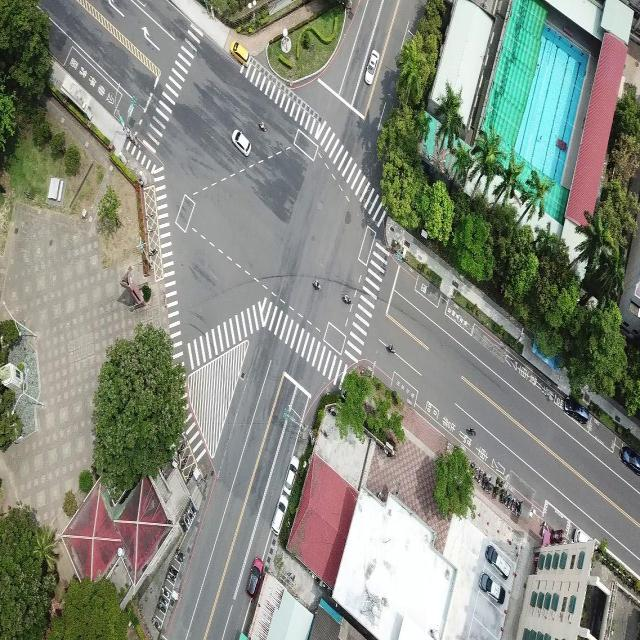bike: (187, 464, 196, 481), (168, 565, 179, 577), (152, 617, 161, 630), (466, 426, 476, 437), (189, 499, 196, 514), (157, 602, 166, 613), (182, 454, 189, 468), (312, 278, 320, 290), (175, 552, 183, 564), (342, 294, 351, 304), (158, 596, 168, 605), (167, 572, 176, 582), (258, 120, 266, 131), (181, 520, 187, 534), (184, 513, 190, 527), (187, 508, 194, 520), (178, 442, 185, 454), (386, 343, 394, 353), (177, 548, 185, 558), (162, 588, 170, 597), (472, 466, 478, 478), (478, 468, 483, 482), (511, 498, 516, 510), (508, 494, 512, 507)
car: (478, 568, 506, 608), (485, 543, 511, 579), (563, 394, 589, 424), (246, 556, 263, 597), (619, 443, 640, 474), (283, 454, 299, 494), (273, 493, 287, 536), (231, 128, 251, 157), (364, 50, 380, 85), (229, 39, 249, 66), (574, 528, 597, 550)
